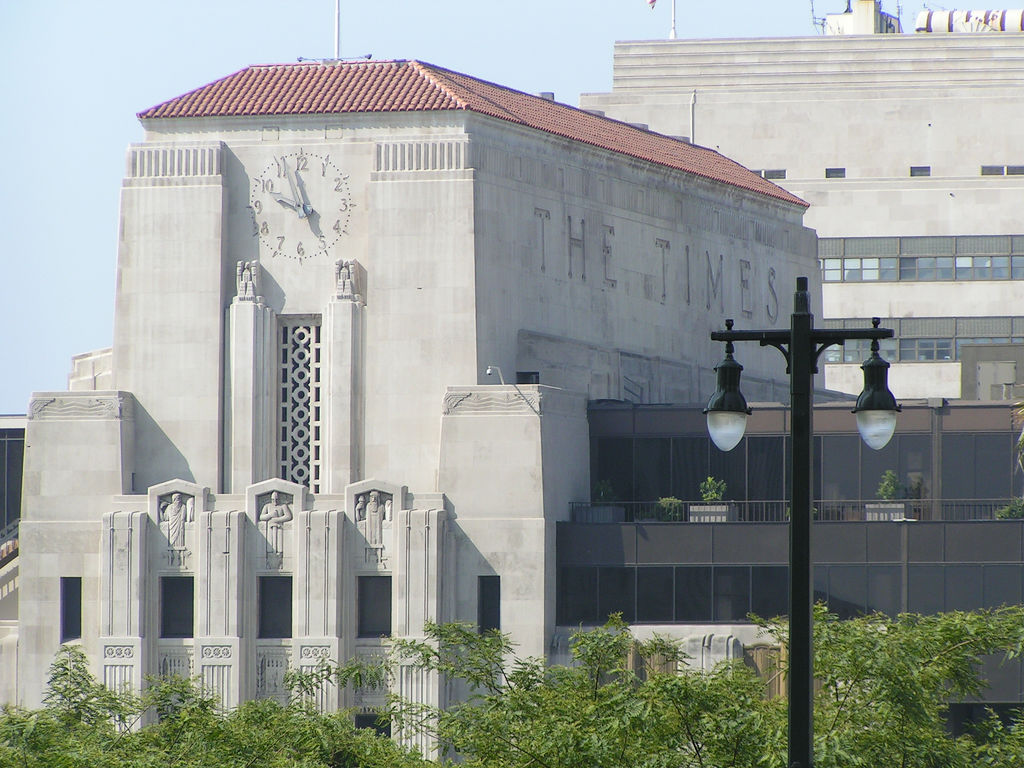fachada: (14, 40, 572, 766), (566, 350, 1024, 764), (584, 0, 1024, 394)
poste: (702, 268, 898, 768)
